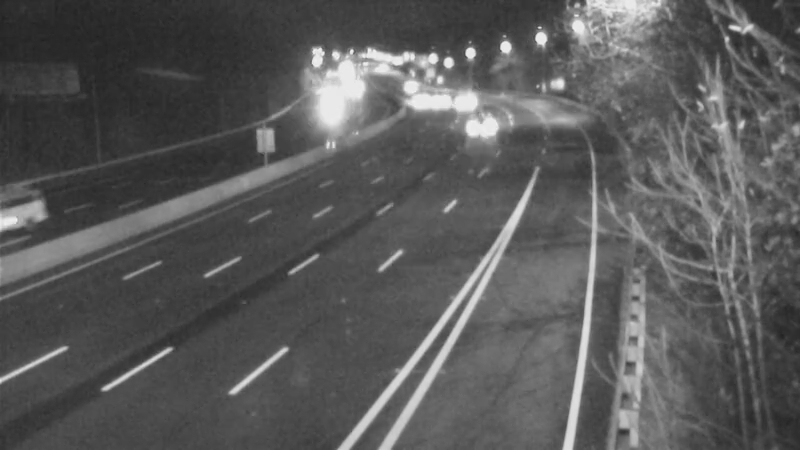vehicle: (1, 170, 75, 250), (382, 59, 432, 109), (413, 73, 463, 123), (393, 79, 443, 129), (438, 76, 488, 126), (445, 105, 495, 155)
